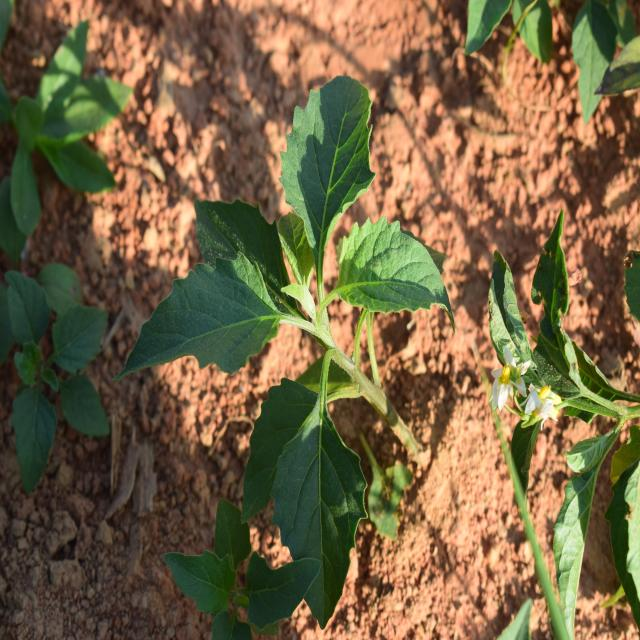Black_nightshade: (144, 104, 436, 566)
